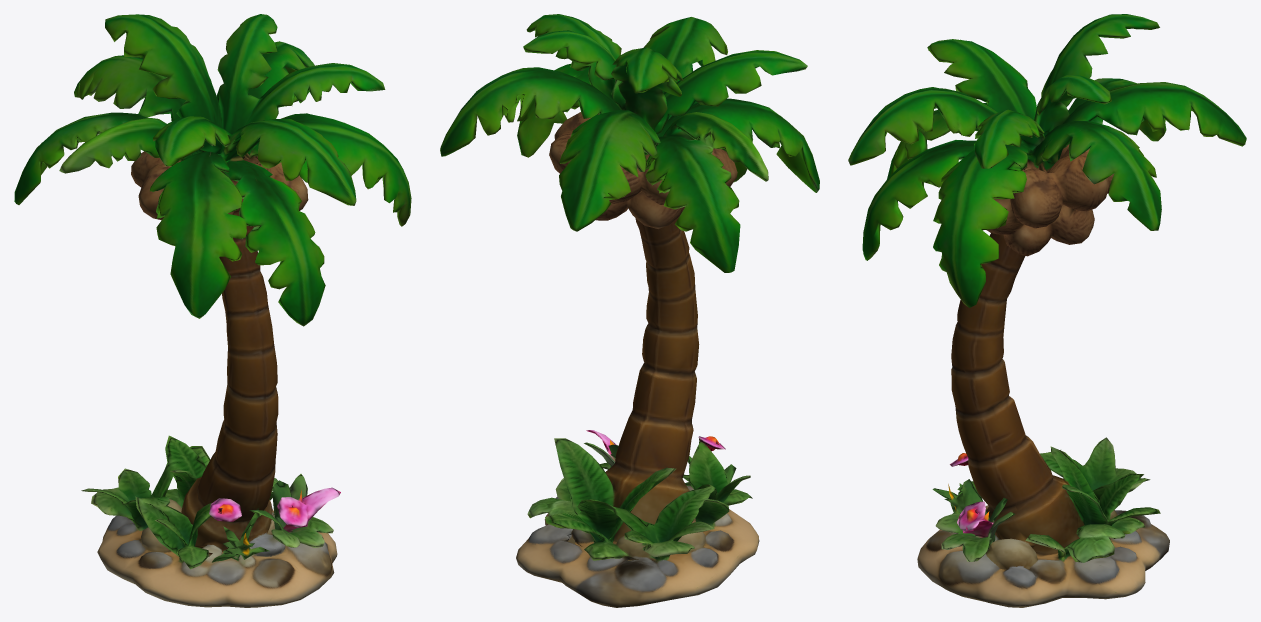
The model's file is env_palm_tree.glb.
3 renders of one model, left to right at view 1: azimuth 30°, elevation 25°; view 2: azimuth 150°, elevation 25°; view 3: azimuth 270°, elevation 25°, orthographic.
Parts seen in each view (by area): view 1: world; view 2: world; view 3: world.
Part boxes in pixels (box(x1,y1,x2,y2)): world: box(14, 14, 411, 607); world: box(440, 14, 819, 607); world: box(848, 14, 1246, 607).
Bounding box in the file's own units: 0.5913 × 0.9994 × 0.683.
1 material, 1 textured.
